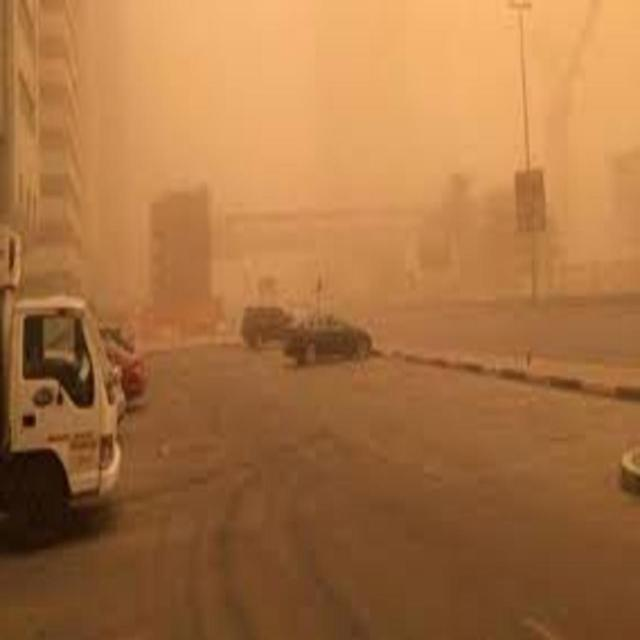bus: (2, 285, 134, 534)
car: (287, 312, 369, 370), (104, 328, 146, 400), (240, 305, 300, 350)
